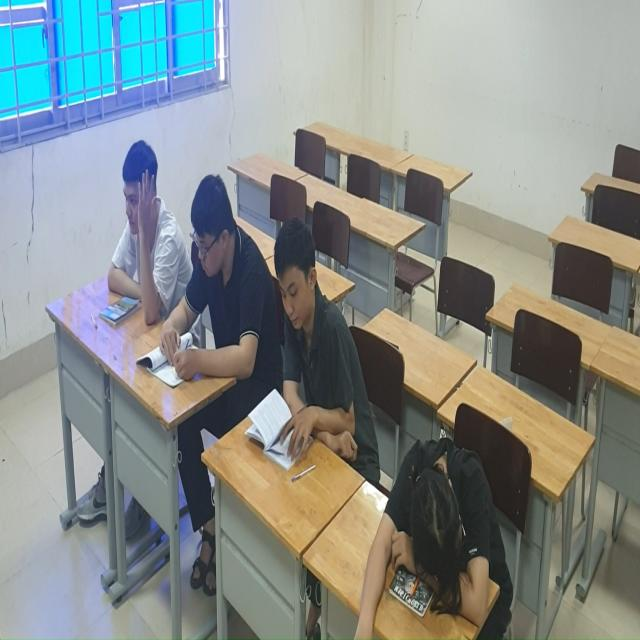raise_hand: (106, 129, 176, 343)
read: (271, 212, 374, 486), (158, 178, 270, 425)
sleep: (348, 439, 519, 640)
